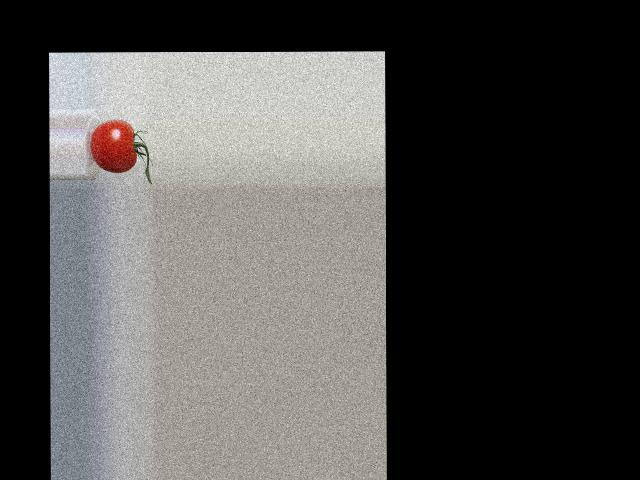tomato: (90, 119, 136, 173)
